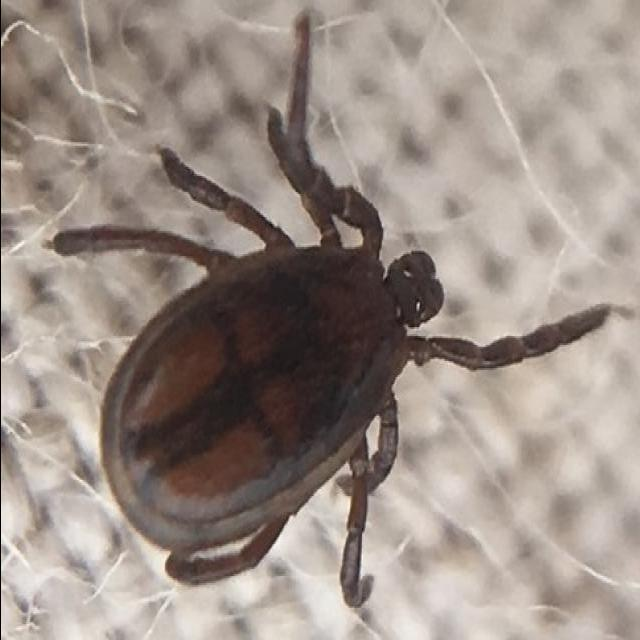Ixodes Ricinus-M: (46, 12, 610, 608)
